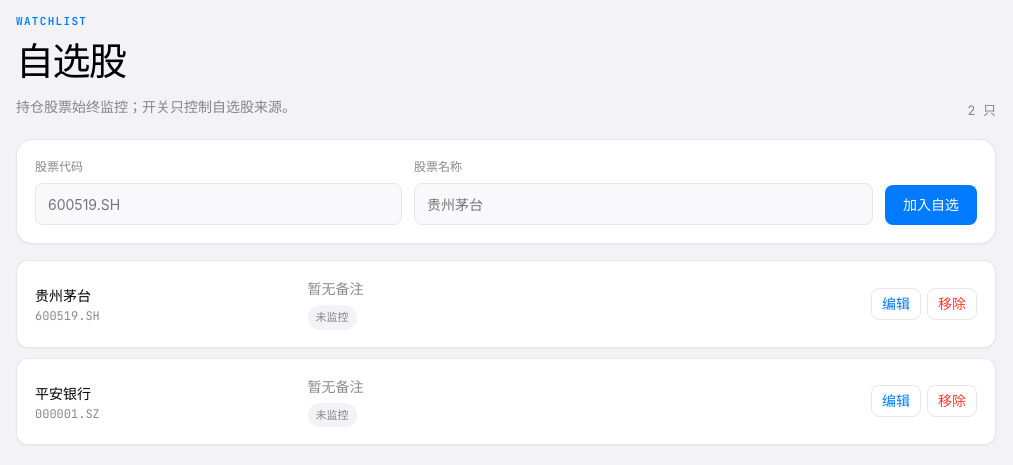
Scenario: WatchlistPage › keeps a completed deletion absent through a later fresh reload
Check: the text "贵州茅台" is shown, box [35, 287, 91, 304]
Click the button with aria-label "移除 贵州茅台" at (952, 304), box [927, 288, 977, 320]
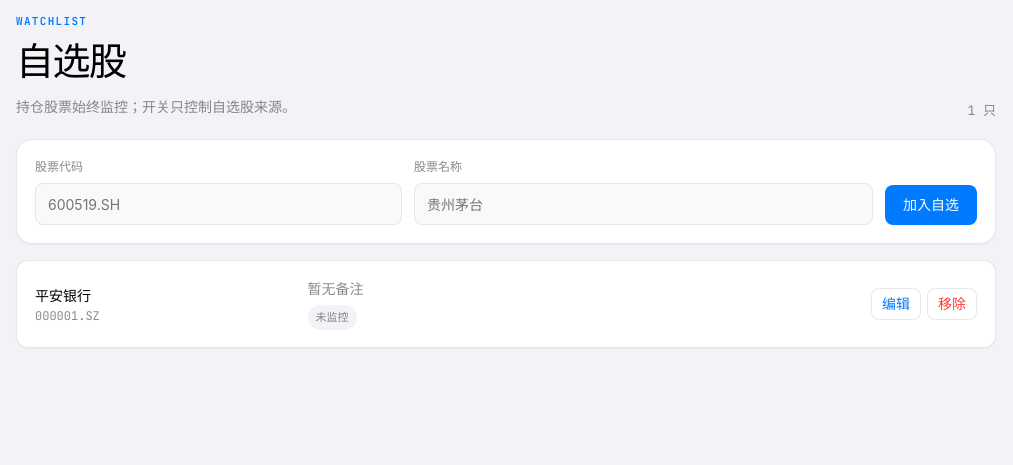
Click the button with aria-label "编辑 平安银行" at (896, 304), box [871, 288, 921, 320]
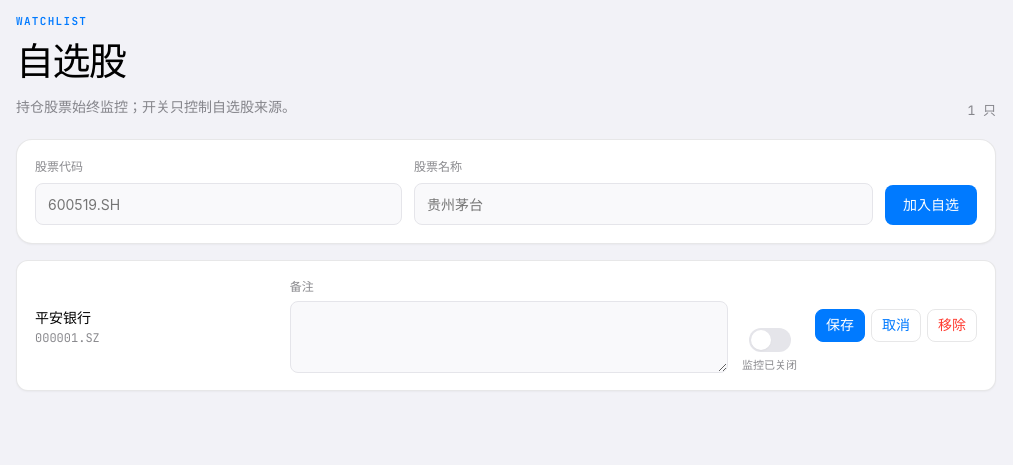
Click the button with aria-label "保存 平安银行" at (840, 326), box [815, 310, 865, 342]
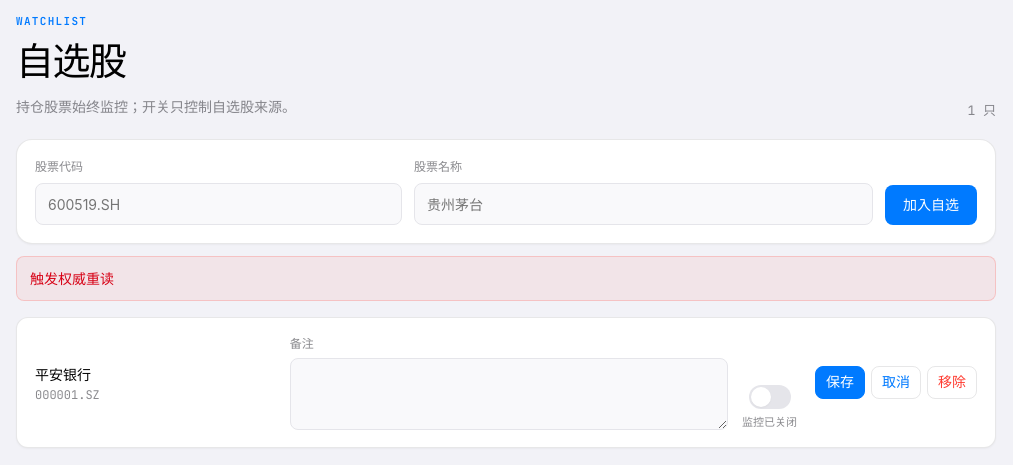
Click the button "取消" at (896, 383), box [871, 366, 921, 399]
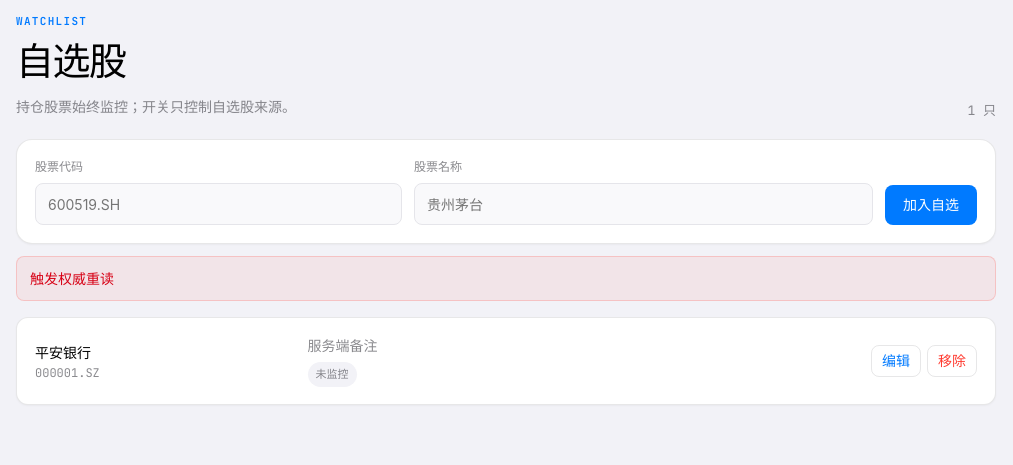
Check: the text "服务端备注" is shown, box [308, 337, 378, 354]
